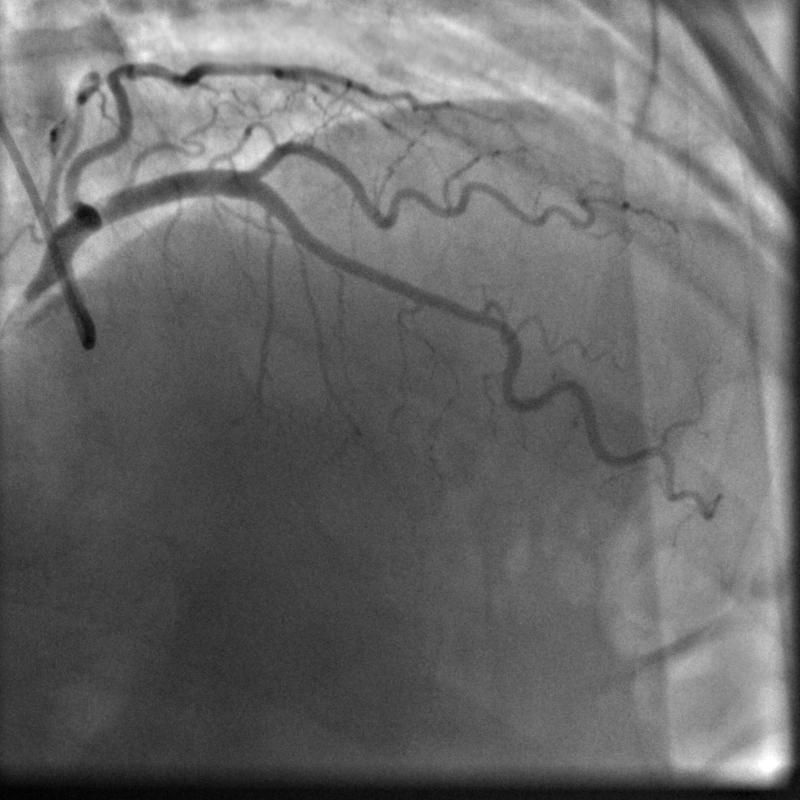Stenosis: (427, 292, 511, 335)
